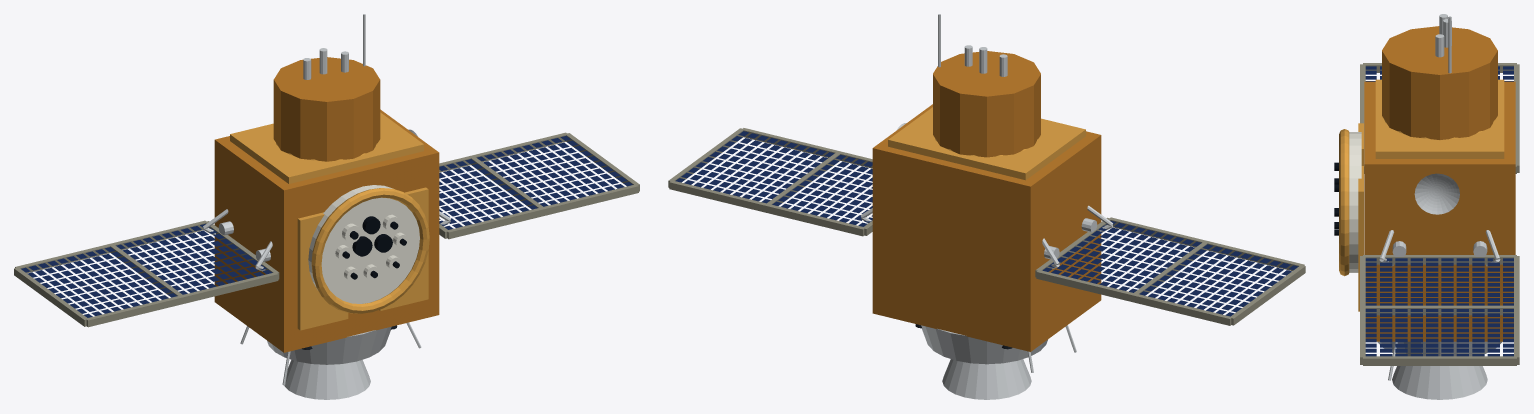
The model's file is NAVIC.glb.
3 views of the same model, side by side, from view 1: azimuth 30°, elevation 25°; view 2: azimuth 150°, elevation 25°; view 3: azimuth 270°, elevation 25° (orthographic). The views are drawn at different scales.
Visible parts, largest first — view 1: IRNSS1I_MAIN_GOLD_BUS, IRNSS1I_SOLAR_CELLS, IRNSS1I_UPPER_GOLD_NAVIGATION_MODULE, IRNSS1I_SOLAR_FRAMES, IRNSS1I_CONSOLIDATED_MLI_DETAILS, IRNSS1I_MAIN_NAVIGATION_PAYLOAD_PLATE, IRNSS1I_NAVIGATION_PAYLOAD_GOLD_RING, IRNSS1I_MAIN_ENGINE_NOZZLE, IRNSS1I_PROPULSION_ADAPTER, IRNSS1I_NAVIGATION_PAYLOAD_FITTINGS, IRNSS1I_TOP_HARDWARE; view 2: IRNSS1I_MAIN_GOLD_BUS, IRNSS1I_SOLAR_CELLS, IRNSS1I_UPPER_GOLD_NAVIGATION_MODULE, IRNSS1I_SOLAR_FRAMES, IRNSS1I_CONSOLIDATED_MLI_DETAILS, IRNSS1I_MAIN_ENGINE_NOZZLE, IRNSS1I_PROPULSION_ADAPTER, IRNSS1I_TOP_HARDWARE; view 3: IRNSS1I_MAIN_GOLD_BUS, IRNSS1I_UPPER_GOLD_NAVIGATION_MODULE, IRNSS1I_SOLAR_CELLS, IRNSS1I_SOLAR_FRAMES, IRNSS1I_CONSOLIDATED_MLI_DETAILS, IRNSS1I_MAIN_ENGINE_NOZZLE, IRNSS1I_NAVIGATION_PAYLOAD_GOLD_RING, IRNSS1I_MAIN_NAVIGATION_PAYLOAD_PLATE, IRNSS1I_SIDE_SMALL_DISH, IRNSS1I_PROPULSION_ADAPTER, IRNSS1I_TOP_HARDWARE, IRNSS1I_SOLAR_HINGES (+3 smaller).
Part boxes in pixels (x1=…): IRNSS1I_MAIN_GOLD_BUS: x1=214, y1=109, x2=439, y2=352; IRNSS1I_SOLAR_CELLS: x1=21, y1=136, x2=632, y2=317; IRNSS1I_UPPER_GOLD_NAVIGATION_MODULE: x1=273, y1=57, x2=380, y2=161; IRNSS1I_SOLAR_FRAMES: x1=14, y1=132, x2=639, y2=327; IRNSS1I_CONSOLIDATED_MLI_DETAILS: x1=230, y1=112, x2=428, y2=330; IRNSS1I_MAIN_NAVIGATION_PAYLOAD_PLATE: x1=308, y1=185, x2=419, y2=303; IRNSS1I_NAVIGATION_PAYLOAD_GOLD_RING: x1=311, y1=188, x2=429, y2=313; IRNSS1I_MAIN_ENGINE_NOZZLE: x1=284, y1=360, x2=370, y2=399; IRNSS1I_PROPULSION_ADAPTER: x1=267, y1=326, x2=391, y2=364; IRNSS1I_NAVIGATION_PAYLOAD_FITTINGS: x1=335, y1=214, x2=407, y2=281; IRNSS1I_TOP_HARDWARE: x1=303, y1=48, x2=348, y2=79; IRNSS1I_MAIN_GOLD_BUS: x1=872, y1=104, x2=1101, y2=351; IRNSS1I_SOLAR_CELLS: x1=675, y1=131, x2=1298, y2=316; IRNSS1I_UPPER_GOLD_NAVIGATION_MODULE: x1=933, y1=51, x2=1040, y2=157; IRNSS1I_SOLAR_FRAMES: x1=668, y1=128, x2=1305, y2=325; IRNSS1I_CONSOLIDATED_MLI_DETAILS: x1=888, y1=107, x2=1085, y2=180; IRNSS1I_MAIN_ENGINE_NOZZLE: x1=942, y1=359, x2=1031, y2=399; IRNSS1I_PROPULSION_ADAPTER: x1=921, y1=325, x2=1047, y2=364; IRNSS1I_TOP_HARDWARE: x1=964, y1=45, x2=1007, y2=76; IRNSS1I_MAIN_GOLD_BUS: x1=1364, y1=81, x2=1515, y2=341; IRNSS1I_UPPER_GOLD_NAVIGATION_MODULE: x1=1382, y1=26, x2=1497, y2=139; IRNSS1I_SOLAR_CELLS: x1=1365, y1=66, x2=1513, y2=356; IRNSS1I_SOLAR_FRAMES: x1=1360, y1=63, x2=1519, y2=365; IRNSS1I_CONSOLIDATED_MLI_DETAILS: x1=1358, y1=79, x2=1504, y2=311; IRNSS1I_MAIN_ENGINE_NOZZLE: x1=1392, y1=366, x2=1487, y2=399; IRNSS1I_NAVIGATION_PAYLOAD_GOLD_RING: x1=1339, y1=129, x2=1349, y2=276; IRNSS1I_MAIN_NAVIGATION_PAYLOAD_PLATE: x1=1349, y1=132, x2=1361, y2=272; IRNSS1I_SIDE_SMALL_DISH: x1=1414, y1=173, x2=1459, y2=214; IRNSS1I_PROPULSION_ADAPTER: x1=1377, y1=341, x2=1502, y2=356; IRNSS1I_TOP_HARDWARE: x1=1435, y1=14, x2=1451, y2=57; IRNSS1I_SOLAR_HINGES: x1=1392, y1=241, x2=1487, y2=256.
Bounding box in the file's own units: 5.55 × 3.41 × 1.47.
